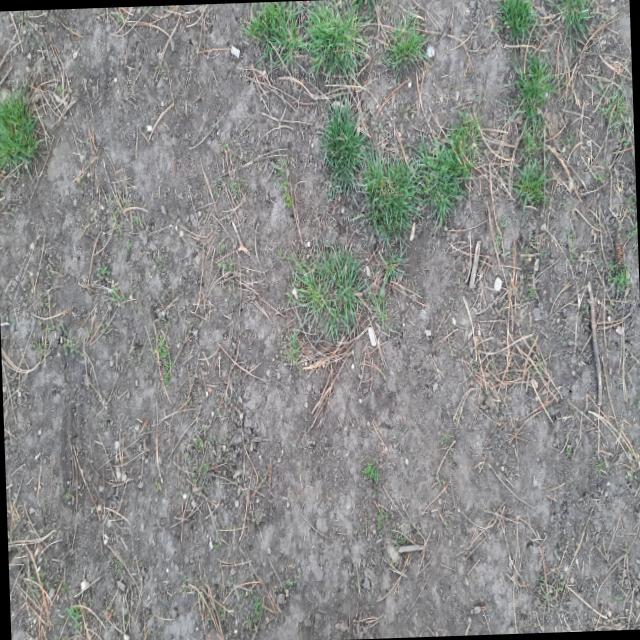grass: (322, 105, 470, 239), (292, 244, 371, 342), (303, 1, 366, 75), (248, 1, 304, 68), (0, 89, 39, 172), (516, 53, 551, 120), (498, 0, 534, 39), (514, 161, 544, 205), (561, 0, 589, 36)
white-sand: (0, 0, 640, 640)
